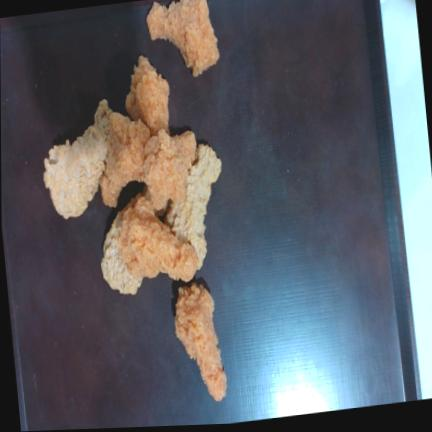chicken: (44, 99, 112, 218), (118, 194, 198, 280), (166, 145, 221, 270), (175, 283, 227, 401), (147, 0, 219, 76), (100, 112, 150, 206), (144, 130, 197, 209), (126, 55, 169, 135)
